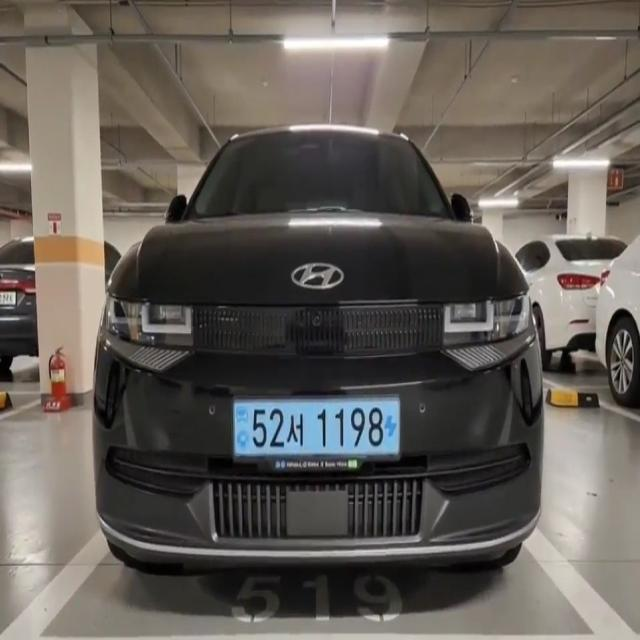car: (232, 397, 402, 457)
carev: (232, 398, 253, 456), (382, 405, 398, 451)
